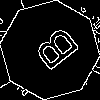B: (25, 25, 81, 79)
